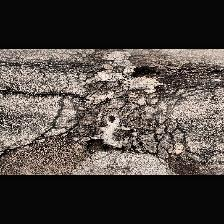pothole: (131, 64, 161, 78), (86, 138, 108, 154)
